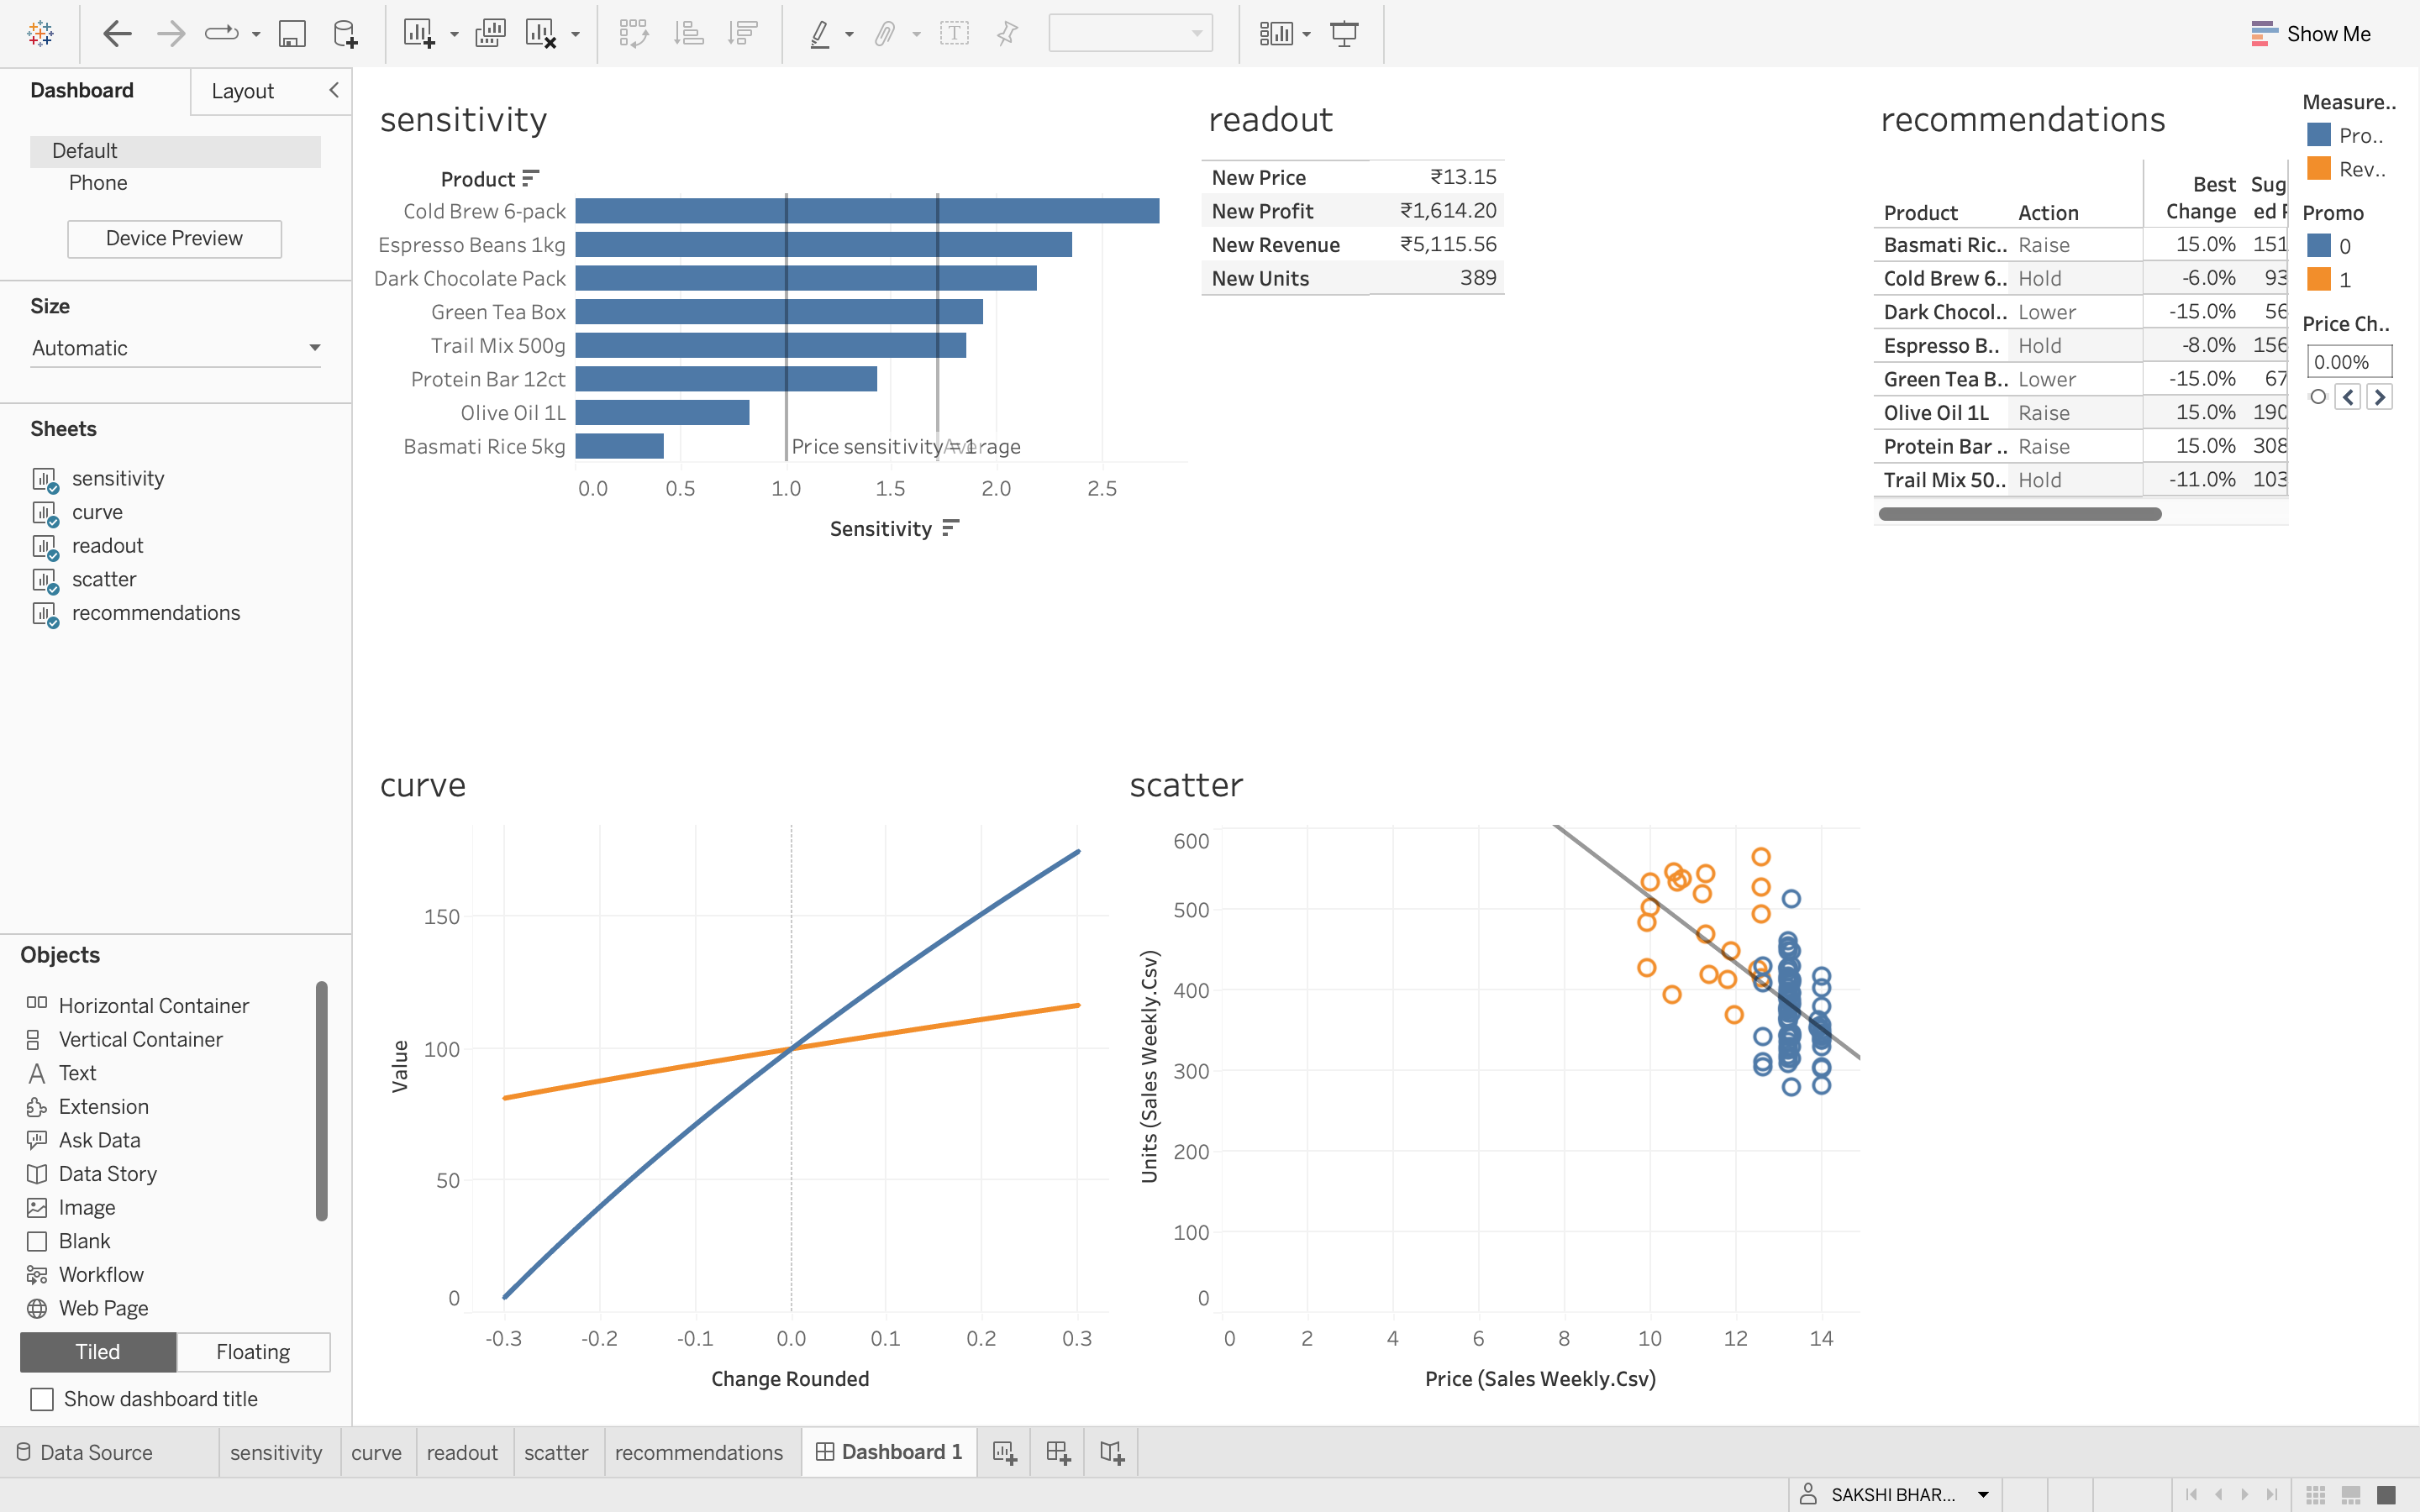

What the dashboard file says about the page in this screenshot:
{"tool":"tableau","page":{"name":"Dashboard 1","canvas":[1000,1000],"units":"permille","ordinal":0},"visuals":[{"type":"worksheet","title":"sensitivity","mark":"Automatic","rows":["product"],"cols":["sensitivity"],"box":[6.5,9.9,364.7,490.1]},{"type":"worksheet","title":"readout","mark":"Automatic","box":[371.2,9.9,296,490.1]},{"type":"worksheet","title":"recommendations","mark":"Automatic","rows":["product","Calculation_104849496822767627"],"box":[667.2,9.9,207.5,980.2]},{"type":"legend","title":"curve","param":"[federated.17ngxvu04ei4hr16cijbh15o5a5m].[:Measure Names]","box":[874.7,9.9,118.8,81.7]},{"type":"legend","title":"scatter","param":"[federated.17ngxvu04ei4hr16cijbh15o5a5m].[none:promo:ok]","box":[874.7,91.6,118.8,81.7]},{"type":"parameter","param":"[Parameters].[Parameter 1]","box":[874.7,173.3,118.8,92.8]},{"type":"worksheet","title":"curve","mark":"Line","cols":["Calculation_104849496822132740"],"box":[6.5,500,330.3,490.1]},{"type":"worksheet","title":"scatter","mark":"Automatic","rows":["units (sales_weekly.csv)"],"cols":["price (sales_weekly.csv)"],"box":[336.8,500,330.4,490.1]}]}

Visuals, with their boxes on the dashboard's canvas, which has no fixed pixel size, in thousandths of its width and height (x1, y1, x2, y2). These are canvas units, not pixel positions in the 2420x1512 screenshot, which may show the page scaled, cropped or inside an application window:
"sensitivity" worksheet: {"x1": 6, "y1": 10, "x2": 371, "y2": 500}
"readout" worksheet: {"x1": 371, "y1": 10, "x2": 667, "y2": 500}
"recommendations" worksheet: {"x1": 667, "y1": 10, "x2": 875, "y2": 990}
"curve" legend: {"x1": 875, "y1": 10, "x2": 994, "y2": 92}
"scatter" legend: {"x1": 875, "y1": 92, "x2": 994, "y2": 173}
parameter: {"x1": 875, "y1": 173, "x2": 994, "y2": 266}
"curve" worksheet (Line marks): {"x1": 6, "y1": 500, "x2": 337, "y2": 990}
"scatter" worksheet: {"x1": 337, "y1": 500, "x2": 667, "y2": 990}
